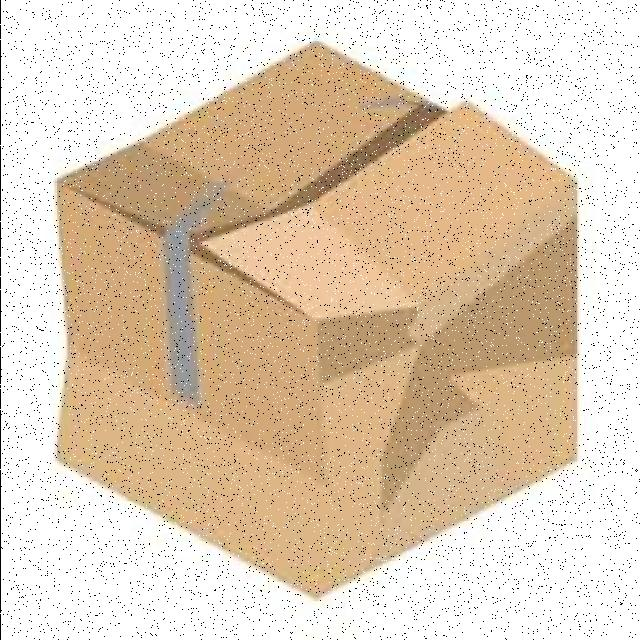defect: (52, 35, 583, 603)
